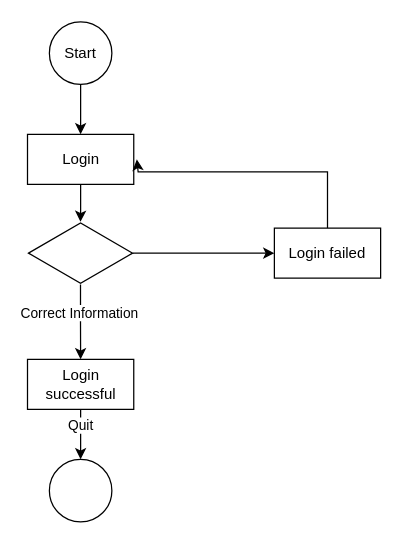
Some shapes in this 404 by 544 pixel diagram are drawn without their labels. Here are the shapes that lost their labels. From the top down, the box of each, then its label:
(27, 221, 133, 284): Decision
(48, 458, 112, 522): End
